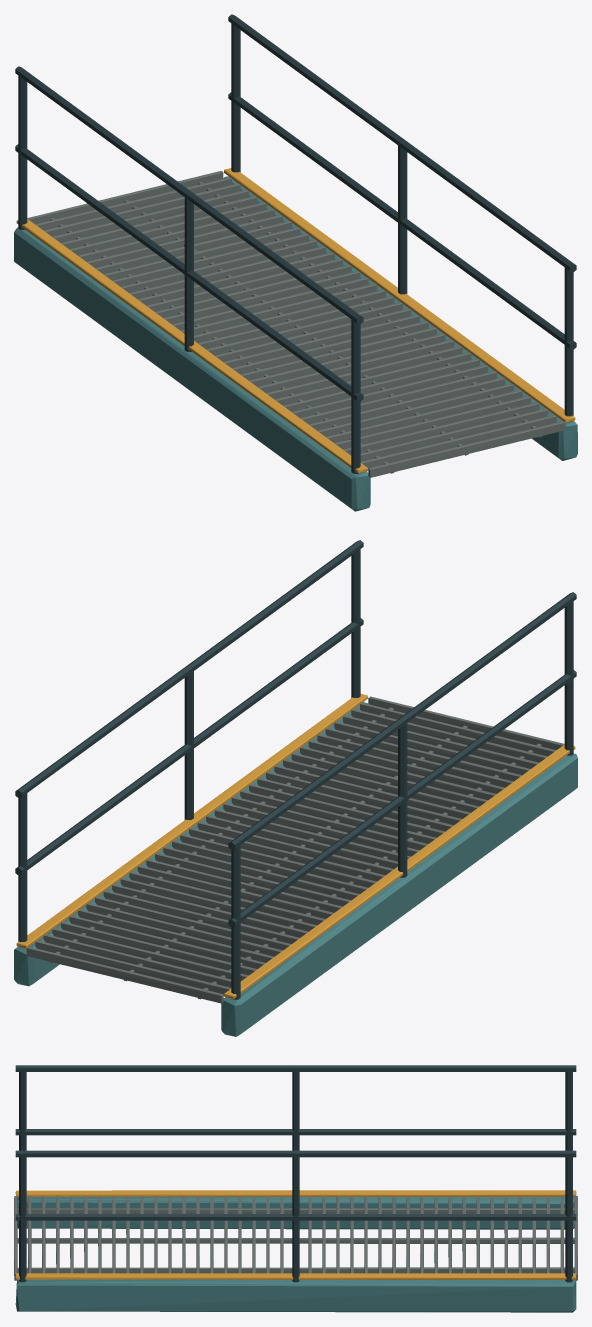
Rendered from grated-bridge.glb.
3 views of the same model, one above another, from view 1: azimuth 30°, elevation 25°; view 2: azimuth 150°, elevation 25°; view 3: azimuth 270°, elevation 25° (orthographic). The views are drawn at different scales.
Visible parts, largest first — view 1: grated-bridge__grated-bridge__hardware, grated-bridge__grated-bridge__steel, grated-bridge__grated-bridge__petrol, grated-bridge__grated-bridge__amber; view 2: grated-bridge__grated-bridge__hardware, grated-bridge__grated-bridge__steel, grated-bridge__grated-bridge__petrol, grated-bridge__grated-bridge__amber; view 3: grated-bridge__grated-bridge__petrol, grated-bridge__grated-bridge__steel, grated-bridge__grated-bridge__hardware, grated-bridge__grated-bridge__amber.
Boxes of the visible parts, left/top/right/bottom form: grated-bridge__grated-bridge__hardware: left=27, top=171, right=565, bottom=477; grated-bridge__grated-bridge__steel: left=15, top=14, right=576, bottom=473; grated-bridge__grated-bridge__petrol: left=14, top=176, right=577, bottom=511; grated-bridge__grated-bridge__amber: left=16, top=168, right=575, bottom=473; grated-bridge__grated-bridge__hardware: left=26, top=696, right=564, bottom=1003; grated-bridge__grated-bridge__steel: left=15, top=540, right=576, bottom=999; grated-bridge__grated-bridge__petrol: left=14, top=702, right=577, bottom=1036; grated-bridge__grated-bridge__amber: left=16, top=694, right=575, bottom=998; grated-bridge__grated-bridge__petrol: left=15, top=1197, right=576, bottom=1312; grated-bridge__grated-bridge__steel: left=15, top=1065, right=576, bottom=1282; grated-bridge__grated-bridge__hardware: left=14, top=1196, right=577, bottom=1280; grated-bridge__grated-bridge__amber: left=15, top=1190, right=576, bottom=1279.
Size of the model in its own units: 1.53 by 1.27 by 4.02.
